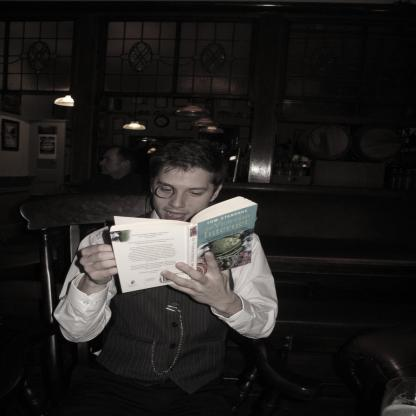book: (110, 195, 252, 294)
